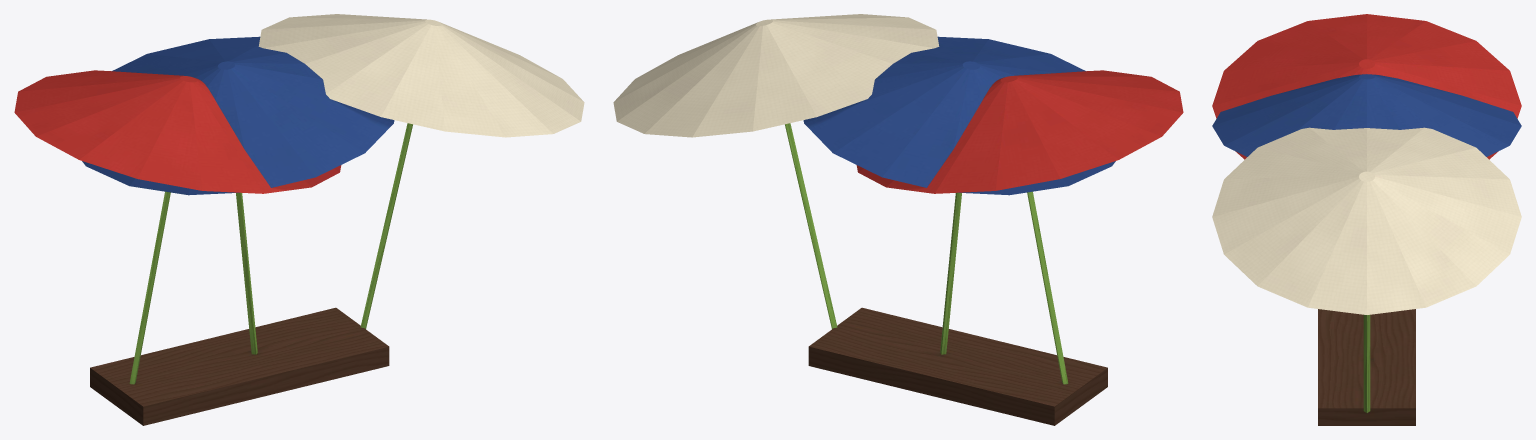
Rendered from wagasa_tex.glb.
The picture shows the model from 3 angles, left to right: view 1: azimuth 30°, elevation 25°; view 2: azimuth 150°, elevation 25°; view 3: azimuth 270°, elevation 25°; orthographic projection. The views are drawn at different scales.
Parts seen in each view (by area): view 1: wagasa; view 2: wagasa; view 3: wagasa.
Part boxes in pixels (x1=…): wagasa: x1=14, y1=14, x2=584, y2=425; wagasa: x1=613, y1=14, x2=1183, y2=425; wagasa: x1=1212, y1=14, x2=1521, y2=425.
Size of the model in its own units: 3.43 by 1.96 by 1.9.
Materials: 5 (5 with a texture image).
